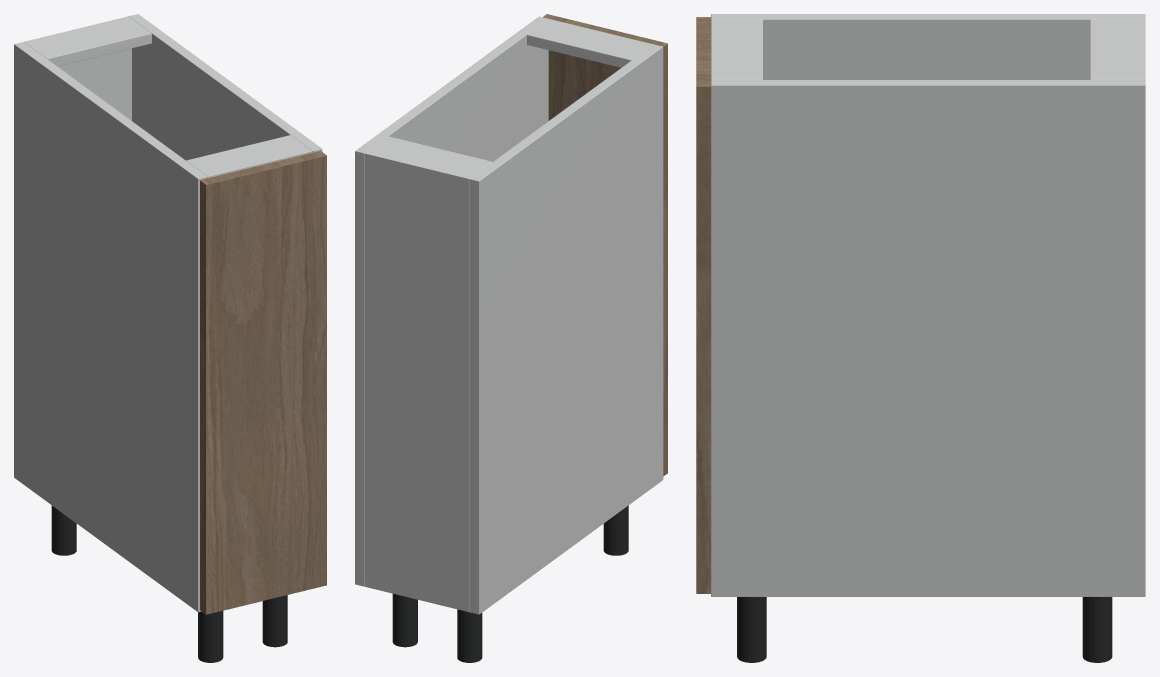
The model's file is oppein-pb-mnw-b09fh.glb.
3 views of the same model, side by side, from view 1: azimuth 30°, elevation 25°; view 2: azimuth 150°, elevation 25°; view 3: azimuth 270°, elevation 25° (orthographic). The views are drawn at different scales.
Visible parts, largest first — view 1: Cabinet side, Door, Cabinet side.001, Cabinet back, Top support rail, Top support rail.001, Adjustable foot.001, Adjustable foot.003, Adjustable foot; view 2: Cabinet side, Cabinet back, Cabinet side.001, Door, Top support rail.001, Top support rail, Adjustable foot, Adjustable foot.002, Adjustable foot.001, Cabinet bottom; view 3: Cabinet side.001, Cabinet side, Door, Top support rail.001, Top support rail, Adjustable foot.002, Adjustable foot.003.
Boxes of the visible parts, x1,y1,x2,y2 form: Cabinet side: [14, 42, 207, 612]; Door: [200, 151, 326, 614]; Cabinet side.001: [129, 14, 322, 160]; Cabinet back: [24, 16, 131, 120]; Top support rail: [26, 19, 151, 66]; Top support rail.001: [186, 135, 312, 178]; Adjustable foot.001: [198, 611, 223, 662]; Adjustable foot.003: [262, 595, 287, 647]; Adjustable foot: [51, 505, 76, 555]; Cabinet side: [469, 44, 663, 614]; Cabinet back: [365, 151, 472, 612]; Cabinet side.001: [355, 16, 548, 586]; Door: [543, 14, 667, 476]; Top support rail.001: [527, 19, 652, 67]; Top support rail: [369, 136, 492, 176]; Adjustable foot: [457, 609, 482, 662]; Adjustable foot.002: [392, 593, 417, 647]; Adjustable foot.001: [603, 505, 628, 555]; Cabinet bottom: [365, 577, 466, 611]; Cabinet side.001: [711, 80, 1145, 596]; Cabinet side: [711, 14, 1145, 79]; Door: [696, 17, 710, 593]; Top support rail.001: [711, 19, 762, 79]; Top support rail: [1090, 19, 1141, 79]; Adjustable foot.002: [1082, 597, 1112, 662]; Adjustable foot.003: [737, 597, 766, 662].
Bounding box in the file's own units: 0.2286 × 0.8763 × 0.6064.
Materials: 3 (1 with a texture image).
